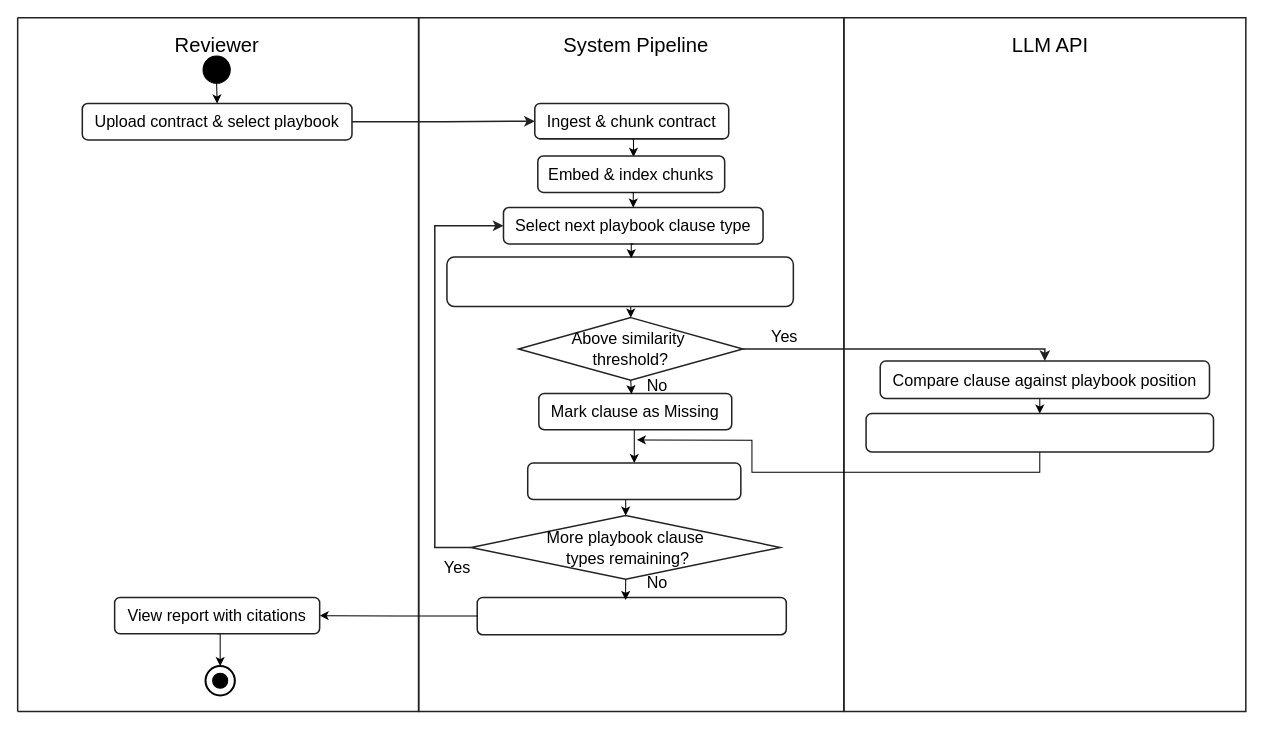
This 1265x730 diagram has some shape labels left out. Each missing label, with the box of its shape:
Generate structured comparison report: (476, 596, 787, 635)
Record comparison result: (527, 462, 741, 500)
Retrieve candidate chunks (hybrid semantic + keyword search): (446, 256, 794, 307)
Return verdict (Match/Deviation) + explanation: (865, 412, 1214, 452)
